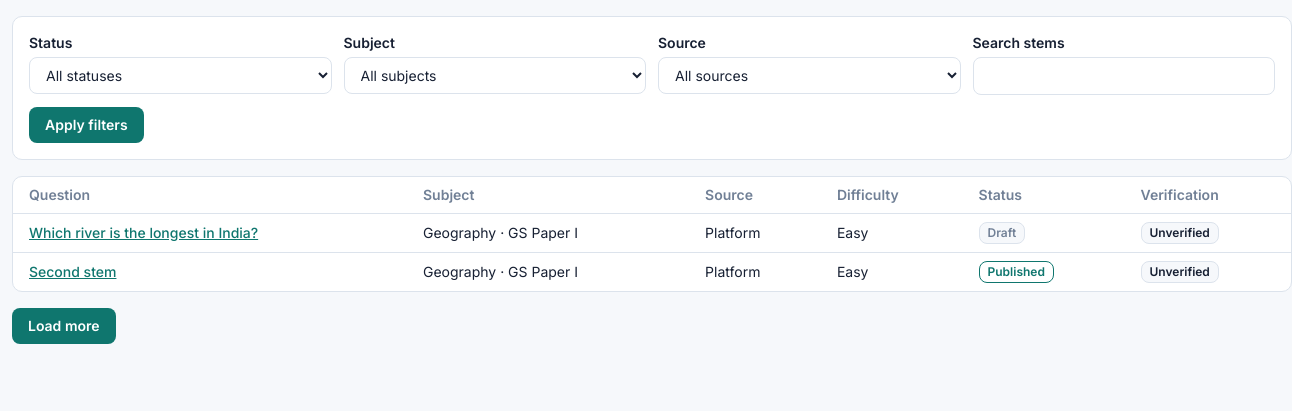
QuestionsTable › shows an inline alert when loading fails and keeps the list
Click the button "Load more": x=64, y=326 [12,308,116,344]
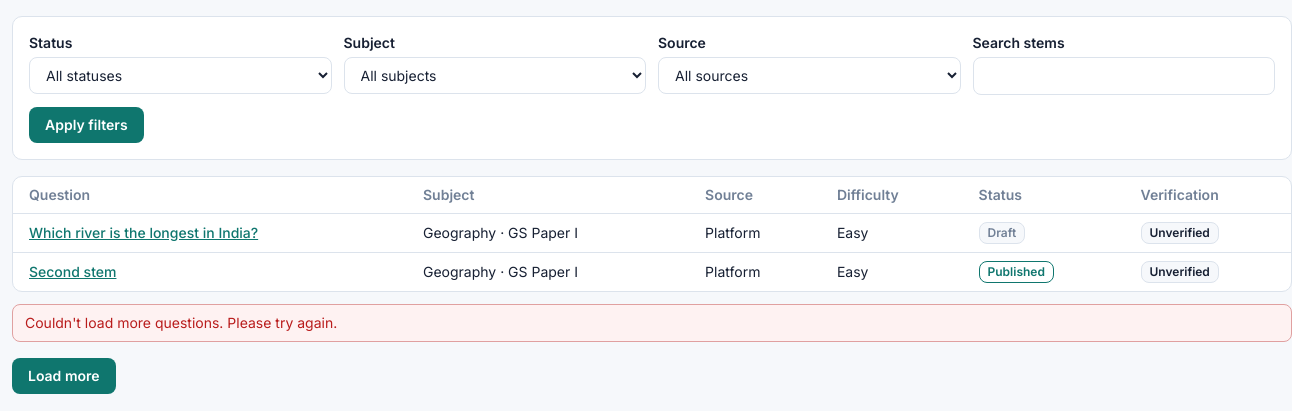
Expected: the link "Second stem" is shown, [29,263,116,280]
Expected: the message "Couldn't load more questions. Please try again." is shown, [12,304,1291,342]
